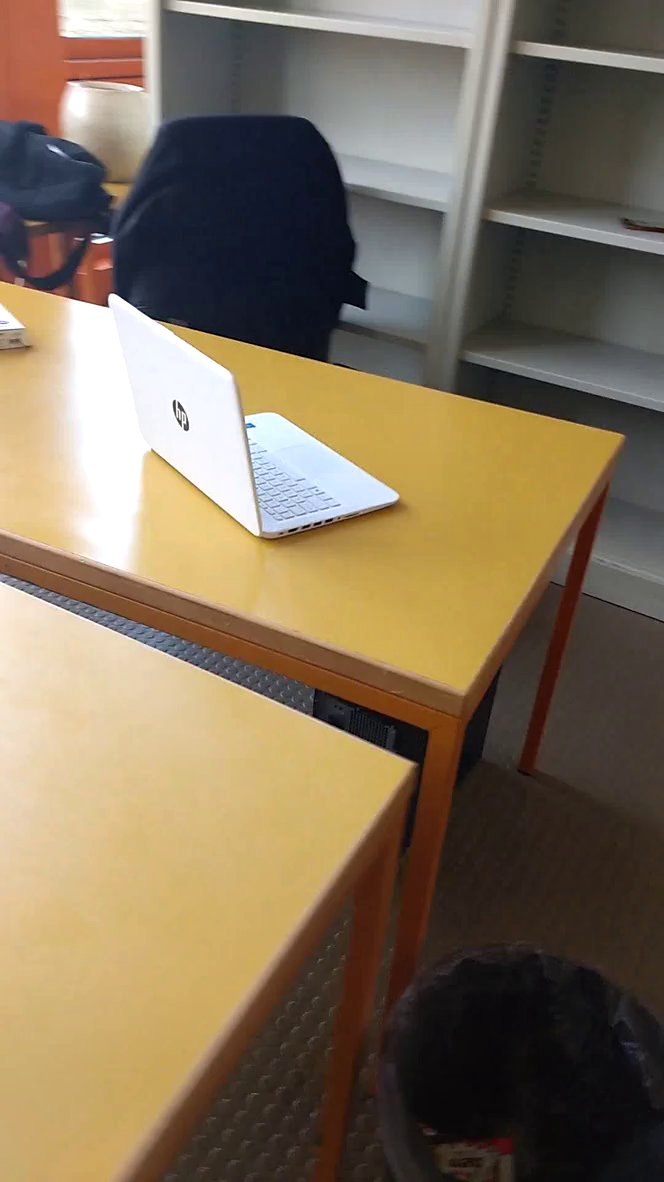bin: (368, 911, 664, 1176)
chair: (115, 112, 379, 369)
laptop: (98, 284, 408, 545)
